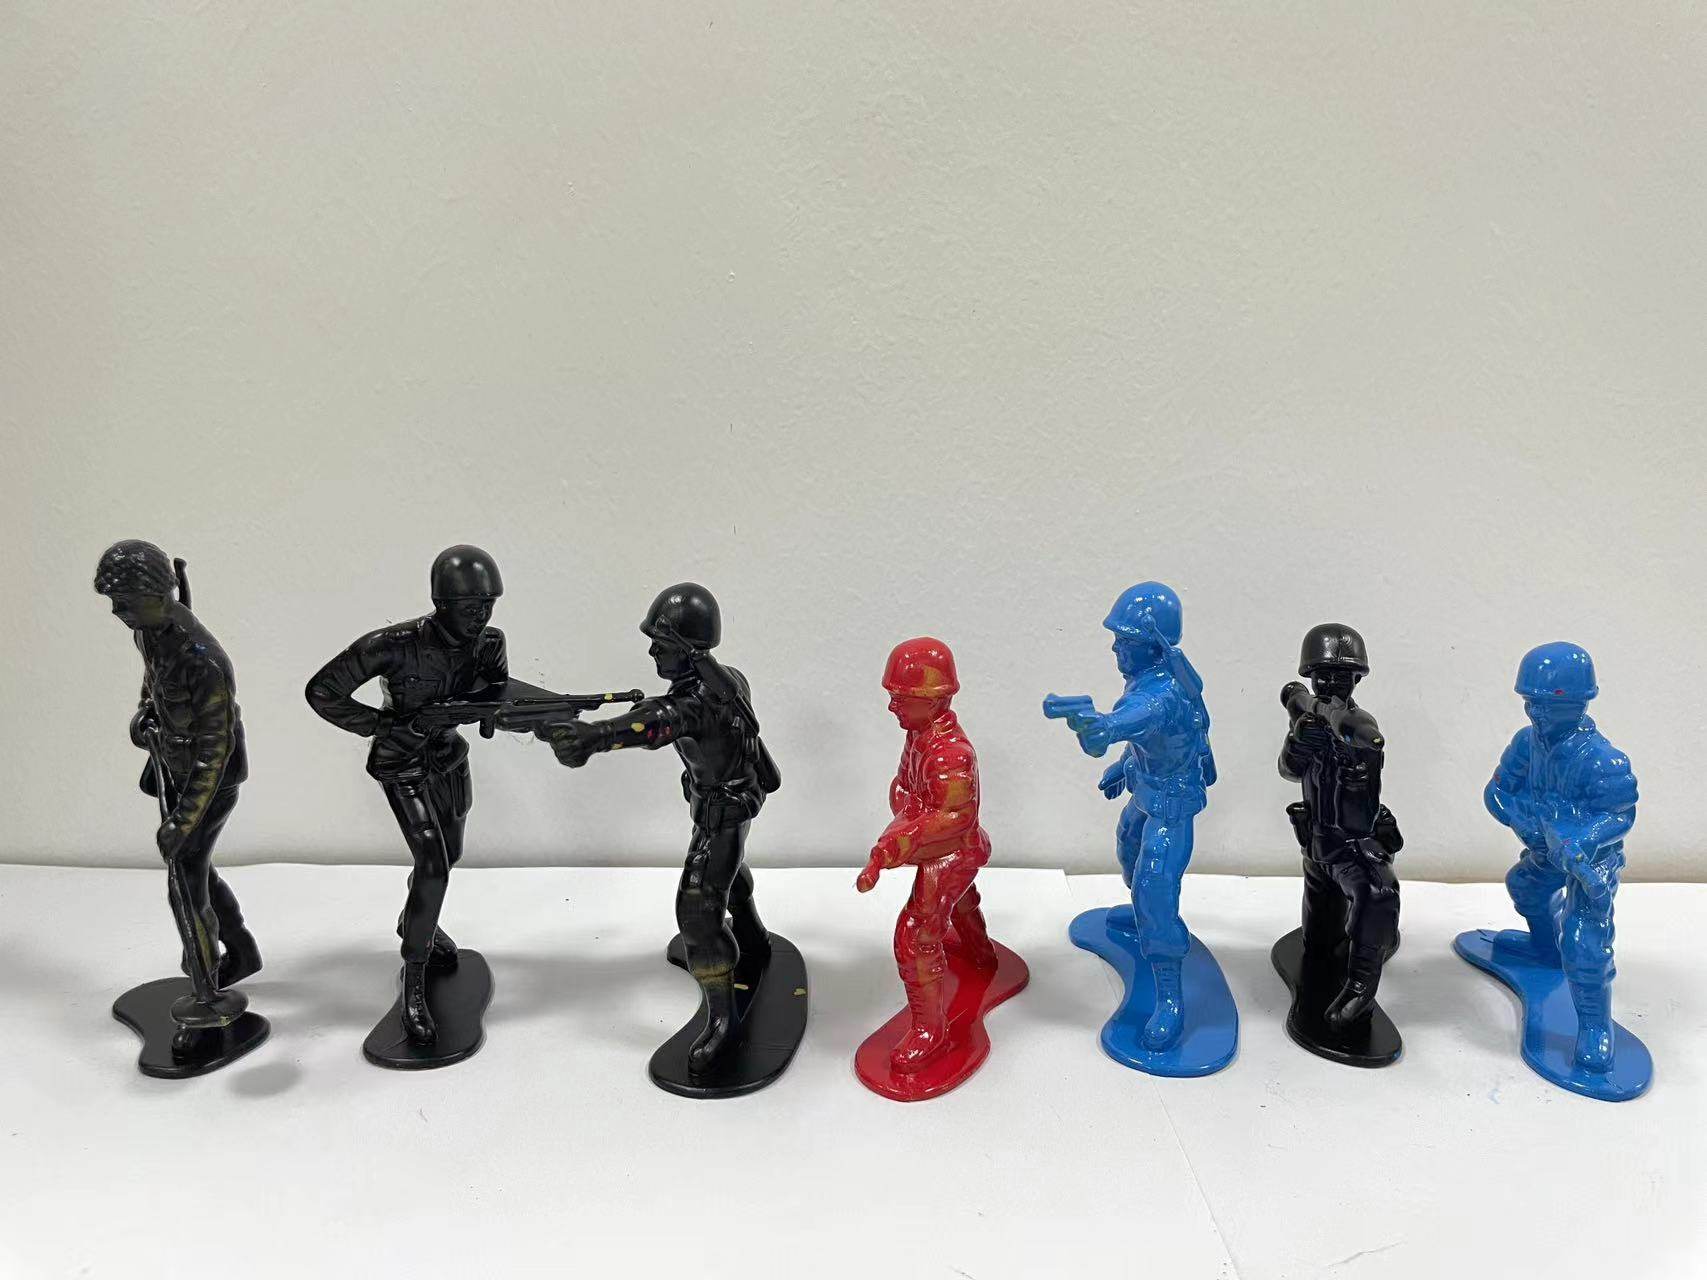black: (551, 559, 841, 1109), (304, 524, 562, 1080), (65, 519, 284, 1094), (1269, 600, 1434, 1089)
blue: (1022, 524, 1265, 1109), (1444, 606, 1707, 1143)
red: (839, 618, 1048, 1104)
